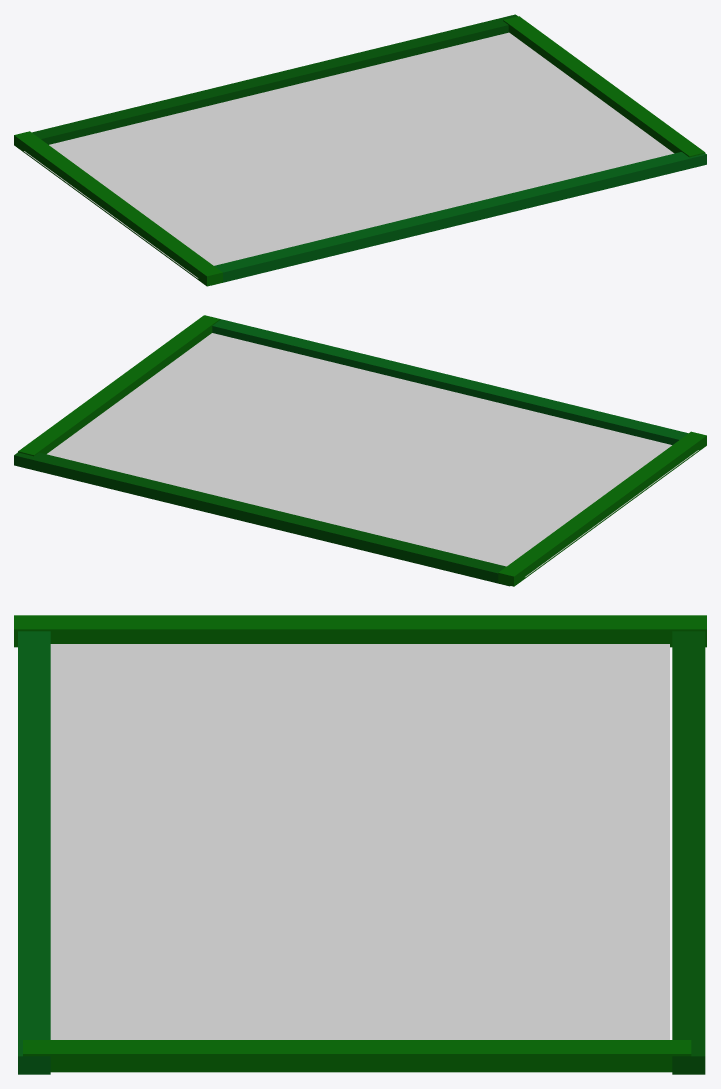
Rendered from picture 5.fbx.
3 views of the same model, one above another, from view 1: azimuth 30°, elevation 25°; view 2: azimuth 150°, elevation 25°; view 3: azimuth 270°, elevation 25° (orthographic). The views are drawn at different scales.
Visible parts, largest first — view 1: 平面, 立方体.003, 立方体.002, 立方体.001, 立方体; view 2: 平面, 立方体.002, 立方体.003, 立方体.001, 立方体; view 3: 平面, 立方体, 立方体.001, 立方体.002, 立方体.003.
Part boxes in pixels (x1,y1,x2,y2): 平面: (24, 32, 674, 278); 立方体.003: (211, 152, 706, 285); 立方体.002: (32, 14, 517, 144); 立方体.001: (14, 131, 222, 286); 立方体: (503, 16, 705, 157); 平面: (47, 333, 698, 577); 立方体.002: (14, 452, 509, 586); 立方体.003: (205, 315, 688, 444); 立方体.001: (498, 431, 706, 586); 立方体: (18, 315, 219, 456); 平面: (50, 644, 669, 1039); 立方体: (23, 1040, 691, 1072); 立方体.001: (14, 615, 706, 647); 立方体.002: (672, 631, 705, 1074); 立方体.003: (18, 631, 50, 1074).
Bounding box in the file's own units: 467 × 10.1 × 311.
